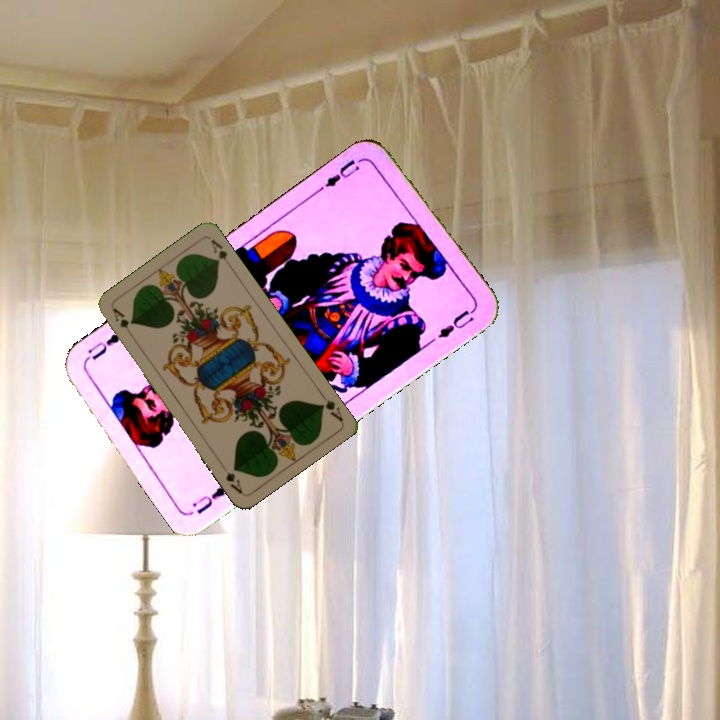EU: (316, 154, 367, 194), (187, 482, 230, 517)
GA: (315, 388, 345, 423), (109, 304, 136, 340)
